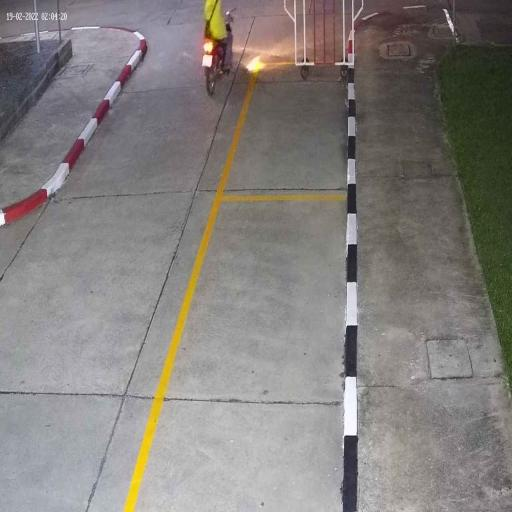motorcycle: (200, 30, 236, 100)
